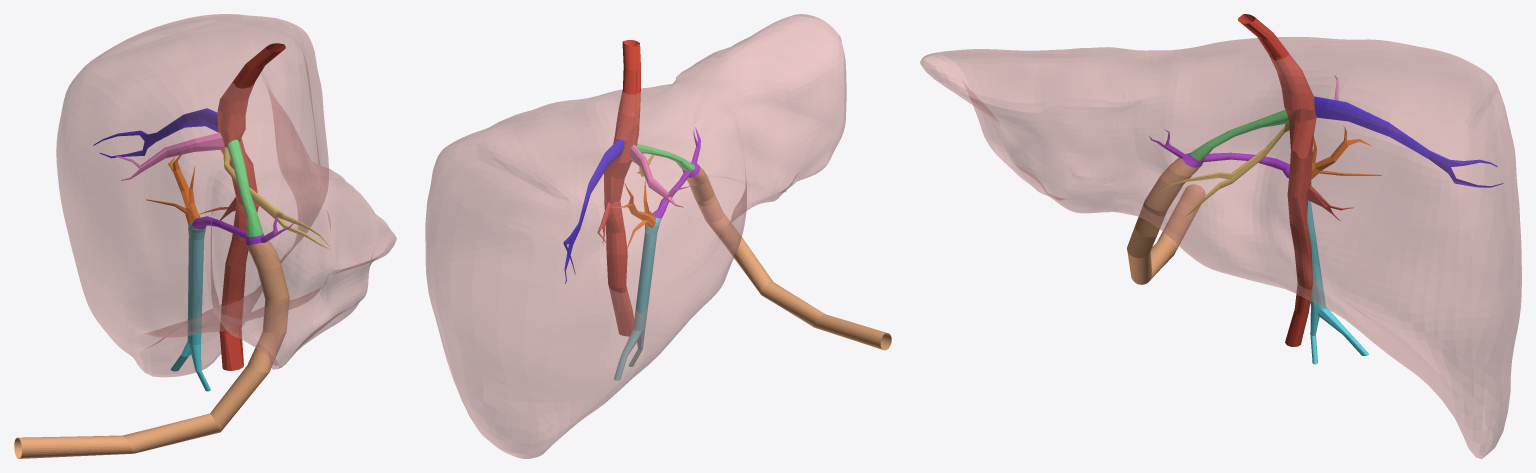
File: livermodel.glb
The picture shows the model from 3 angles, left to right: view 1: azimuth 30°, elevation 25°; view 2: azimuth 150°, elevation 25°; view 3: azimuth 270°, elevation 25°; orthographic projection. The views are drawn at different scales.
Parts seen in each view (by area): view 1: Cube, Circle; view 2: Cube, Circle; view 3: Cube, Circle.
Boxes of the visible parts, x1,y1,x2,y2 form: Cube: (56,14,396,377); Circle: (14,43,330,458); Cube: (425,14,846,458); Circle: (563,40,891,380); Cube: (920,37,1521,458); Circle: (1127,14,1503,364).
Size of the model in its own units: 59.32 by 55.62 by 72.15.
